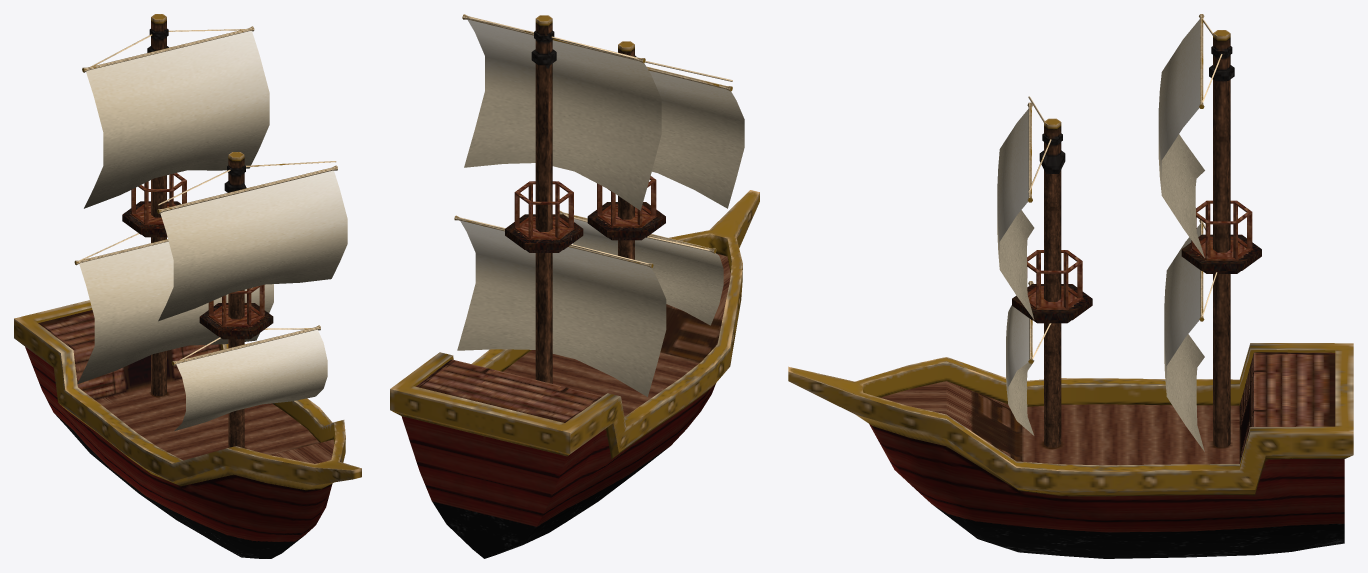
The model's file is Ship001.fbx.
3 views of the same model, side by side, from view 1: azimuth 30°, elevation 25°; view 2: azimuth 150°, elevation 25°; view 3: azimuth 270°, elevation 25° (orthographic). The views are drawn at different scales.
Parts seen in each view (by area): view 1: Ship001; view 2: Ship001; view 3: Ship001.
Boxes of the visible parts, x1,y1,x2,y2 form: Ship001: [14, 14, 361, 558]; Ship001: [390, 14, 759, 558]; Ship001: [788, 14, 1353, 558].
Bounding box in the file's own units: 1.2 × 2.96 × 2.9.
